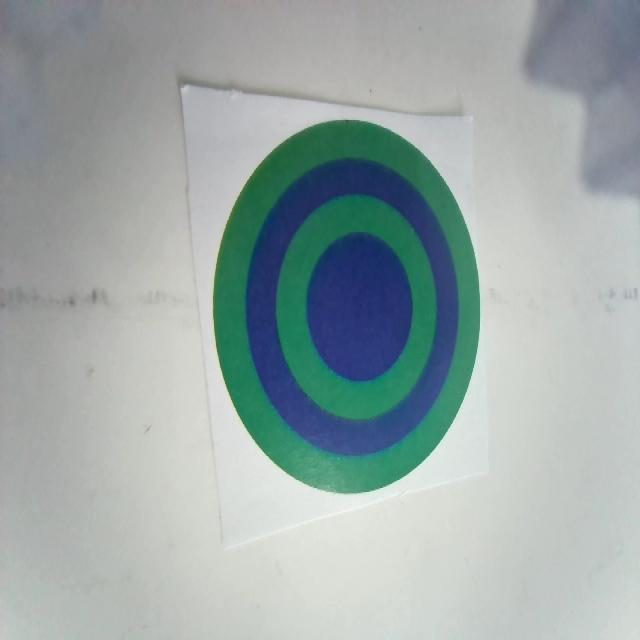cogn: (212, 120, 480, 496)
